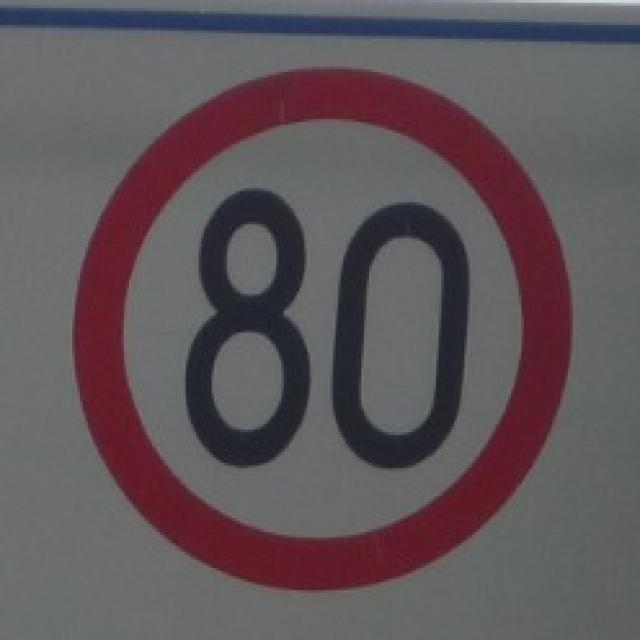Speed Limit -80-: (180, 181, 475, 471)
